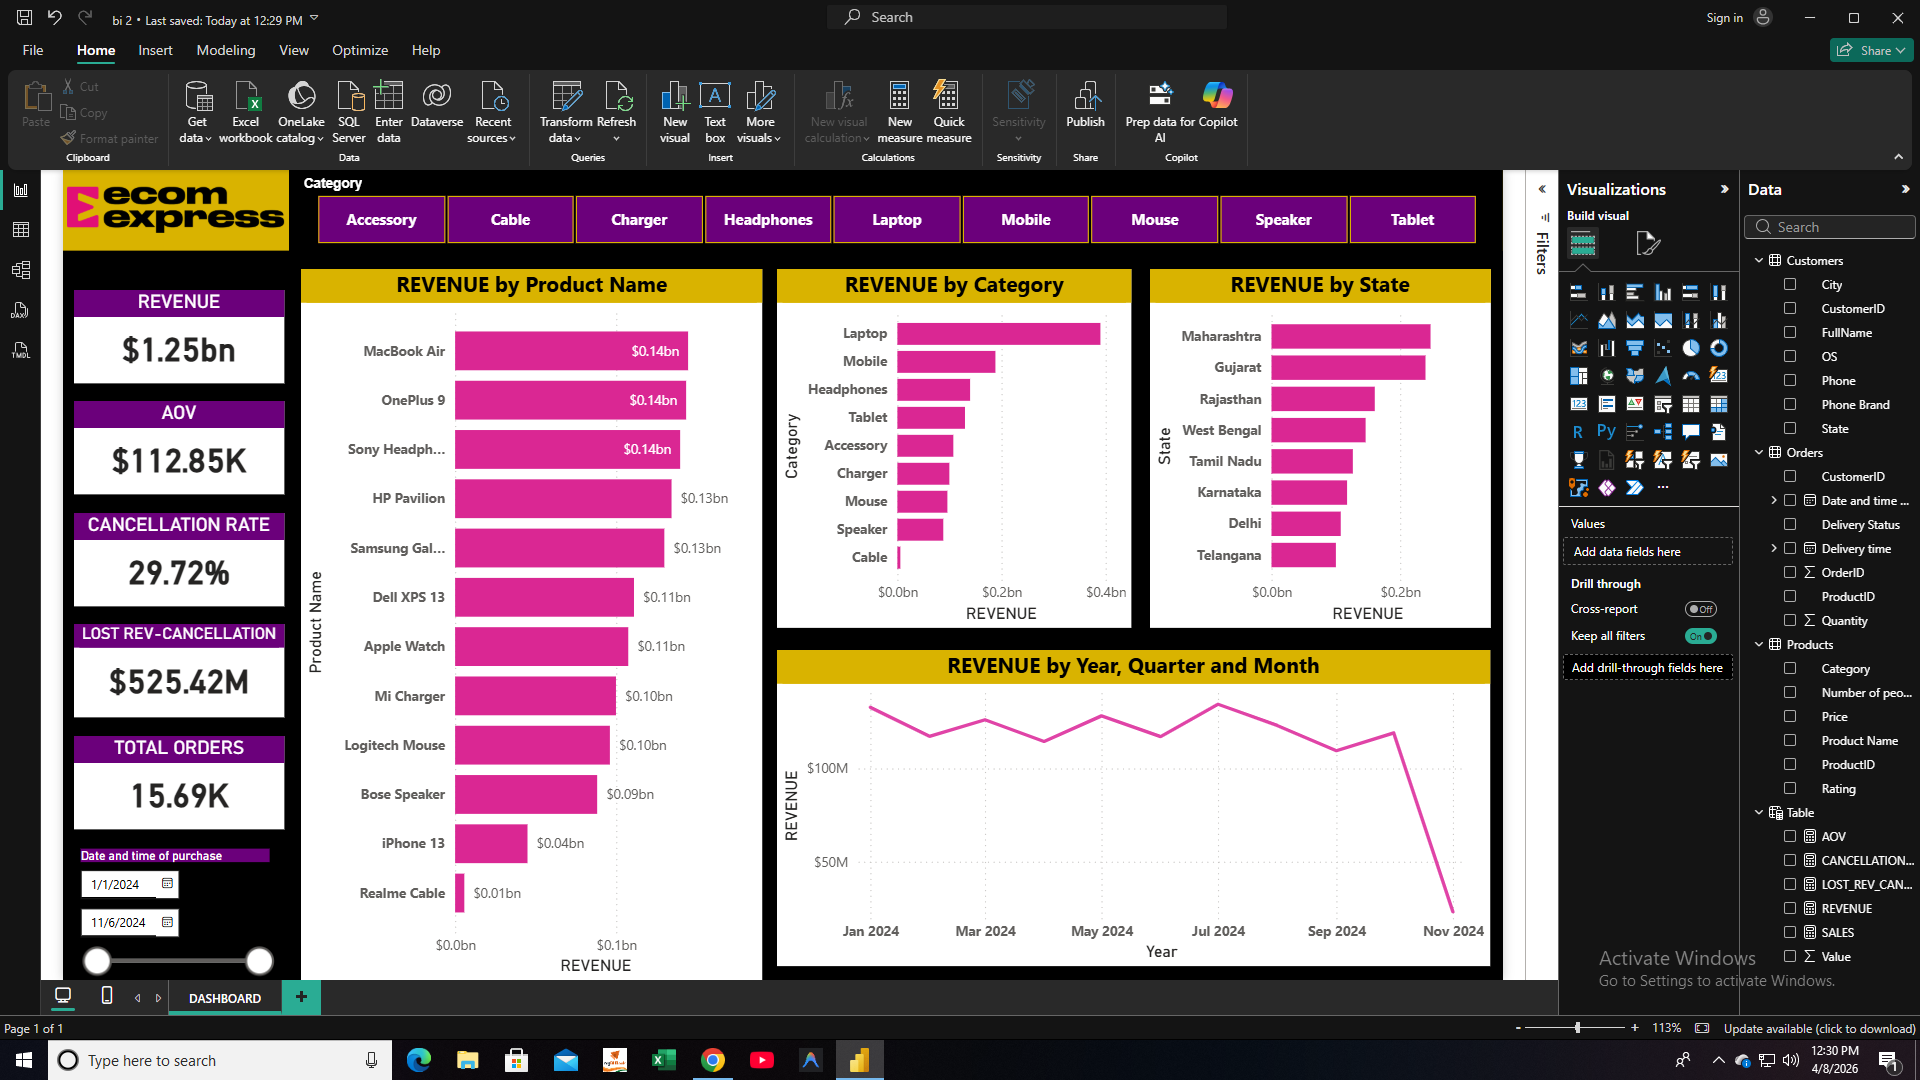

What the dashboard file says about the page in this screenshot:
{"tool":"powerbi","page":{"name":"DASHBOARD","canvas":[1280,720],"ordinal":0},"visuals":[{"type":"shape","box":[0,0,1280.2,71.8],"z":0},{"type":"shape","box":[0,71.8,201.1,648.2],"z":1000},{"type":"image","box":[3.6,9,193,53],"z":2000},{"type":"barChart","fields":{"Y":["Table.REVENUE"],"Category":["Products.Product Name"]},"box":[211.9,88,410.3,632],"z":3000},{"type":"barChart","fields":{"Y":["Table.REVENUE"],"Category":["Products.Category"]},"box":[634.7,88,315.1,318.7],"z":4000},{"type":"lineChart","fields":{"Category":["Orders.Date and time of purchase.Variation.Date Hierarchy.Year","Orders.Date and time of purchase.Variation.Date Hierarchy.Quarter","Orders.Date and time of purchase.Variation.Date Hierarchy.Month","Orders.Date and time of purchase.Variation.Date Hierarchy.Day"],"Y":["Table.REVENUE"]},"box":[634.7,426.7,633.8,280.9],"z":5000},{"type":"barChart","fields":{"Category":["Customers.State"],"Y":["Table.REVENUE"]},"box":[966,88,302.5,318.7],"z":6000},{"type":"slicer","fields":{"Values":["Products.Category"]},"box":[201.1,0,1079.1,71.8],"z":7000},{"type":"card","title":"REVENUE","fields":{"Values":["Table.REVENUE"]},"box":[9.8,106.7,186.7,82.7],"z":8000},{"type":"card","title":"AOV","fields":{"Values":["Table.AOV"]},"box":[9.8,205.3,186.7,82.7],"z":9000},{"type":"card","title":"CANCELLATION RATE ","fields":{"Values":["Table.CANCELLATION RATE"]},"box":[9.8,304.9,186.7,82.7],"z":10000},{"type":"card","title":"LOST REV-CANCELLATION","fields":{"Values":["Table.LOST_REV_CANCELLATION"]},"box":[9.8,403.6,186.7,82.7],"z":11000},{"type":"card","title":"TOTAL ORDERS","fields":{"Values":["CountNonNull(Orders.OrderID)"]},"box":[9.8,503.1,186.7,82.7],"z":12000},{"type":"slicer","fields":{"Values":["Orders.Date and time of purchase"]},"box":[2.7,598.2,193.8,119.1],"z":13000}]}

Visuals, with their boxes on the page's 1280x720 design canvas (x1, y1, x2, y2). These are canvas units, not pixel positions in the 1920x1080 screenshot, which may show the page scaled, cropped or inside an application window:
shape: [x1=0, y1=0, x2=1280, y2=72]
shape: [x1=0, y1=72, x2=201, y2=720]
image: [x1=4, y1=9, x2=197, y2=62]
barChart - Table.REVENUE x Products.Product Name: [x1=212, y1=88, x2=622, y2=720]
barChart - Table.REVENUE x Products.Category: [x1=635, y1=88, x2=950, y2=407]
lineChart - Orders.Date and time of purchase.Variation.Date Hierarchy.Year x Orders.Date and time of purchase.Variation.Date Hierarchy.Quarter: [x1=635, y1=427, x2=1268, y2=708]
barChart - Customers.State x Table.REVENUE: [x1=966, y1=88, x2=1268, y2=407]
slicer - Products.Category: [x1=201, y1=0, x2=1280, y2=72]
"REVENUE" card: [x1=10, y1=107, x2=196, y2=189]
"AOV" card: [x1=10, y1=205, x2=196, y2=288]
"CANCELLATION RATE " card: [x1=10, y1=305, x2=196, y2=388]
"LOST REV-CANCELLATION" card: [x1=10, y1=404, x2=196, y2=486]
"TOTAL ORDERS" card: [x1=10, y1=503, x2=196, y2=586]
slicer - Orders.Date and time of purchase: [x1=3, y1=598, x2=196, y2=717]
